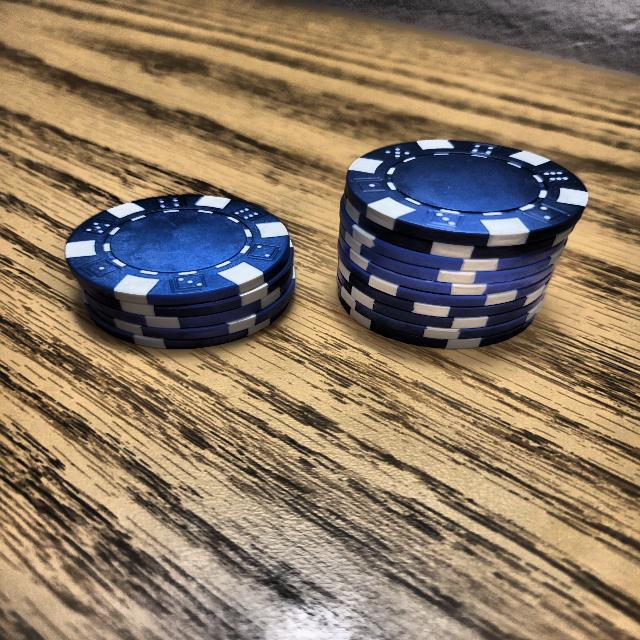Chip: (322, 110, 597, 364), (49, 180, 304, 372)
